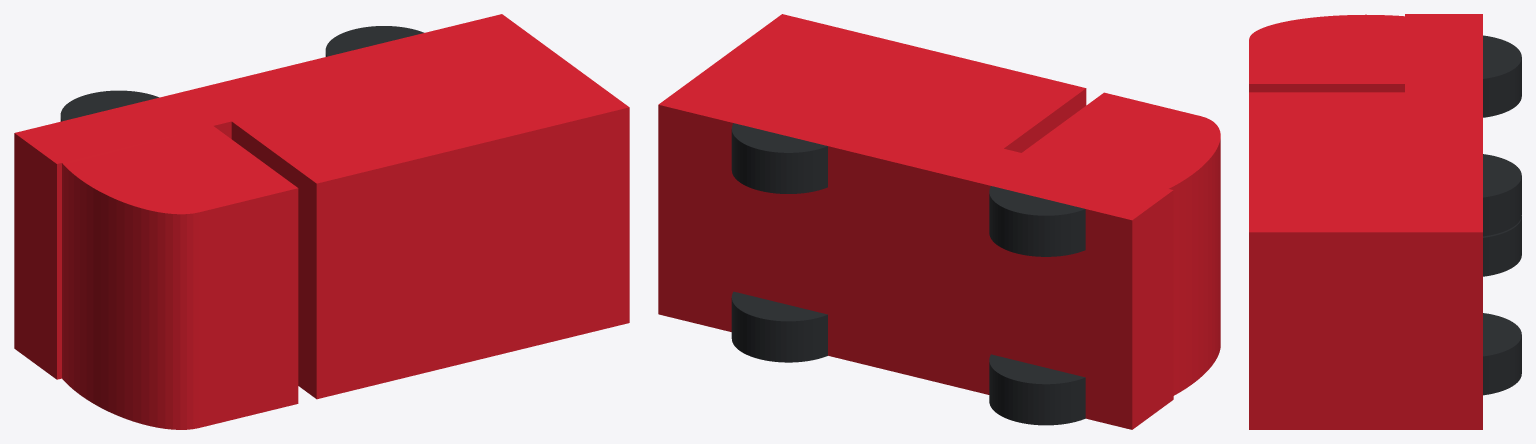
File: firetruck.fbx
3 renders of one model, left to right at view 1: azimuth 30°, elevation 25°; view 2: azimuth 150°, elevation 25°; view 3: azimuth 270°, elevation 25°, orthographic. The views are drawn at different scales.
Parts seen in each view (by area): view 1: group_15277357, group_2829873; view 2: group_15277357, group_2829873; view 3: group_15277357, group_2829873.
Boxes of the visible parts, left/top/right/bottom form: group_15277357: left=14, top=14, right=629, bottom=429; group_2829873: left=60, top=26, right=424, bottom=121; group_15277357: left=658, top=14, right=1220, bottom=429; group_2829873: left=731, top=123, right=1085, bottom=425; group_15277357: left=1249, top=14, right=1482, bottom=429; group_2829873: left=1483, top=35, right=1521, bottom=395.
Size of the model in its own units: 265 by 112 by 140.
